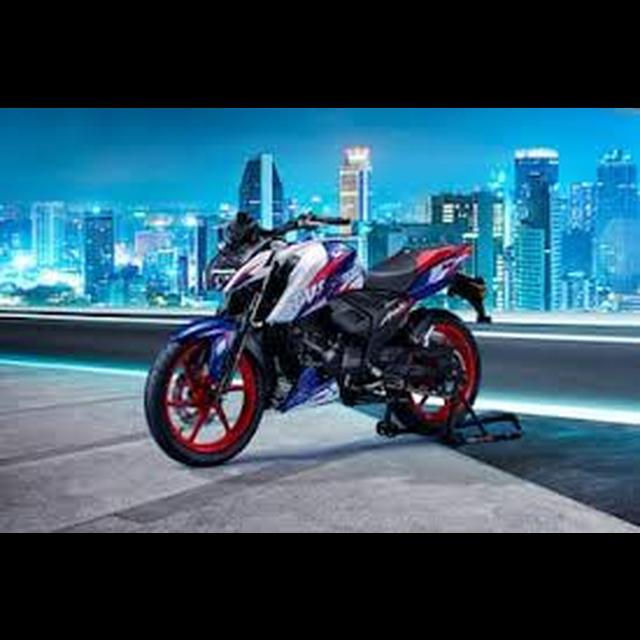motorcycle: (139, 203, 497, 472)
